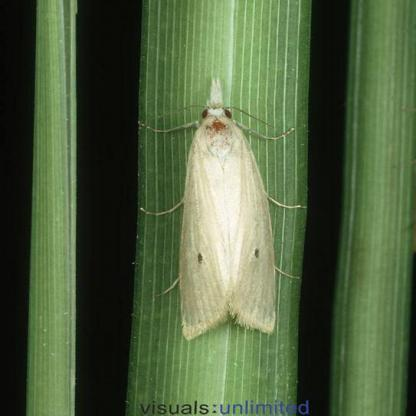stem-borer: (154, 75, 284, 346)
